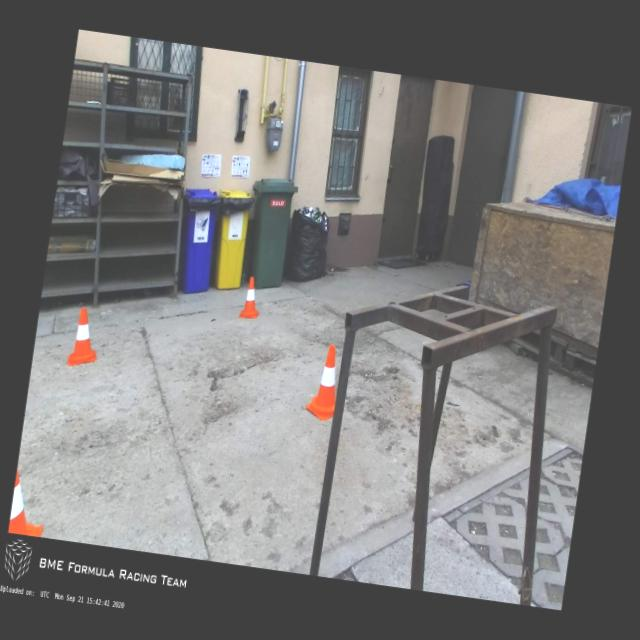orange_cone: (8, 464, 51, 537), (305, 342, 344, 422), (66, 306, 104, 370), (238, 275, 264, 321)
